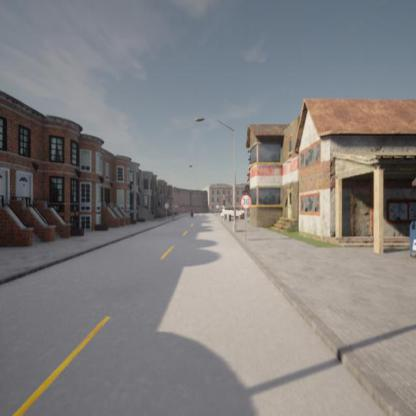traffic_sign_30: (240, 195, 251, 208)
